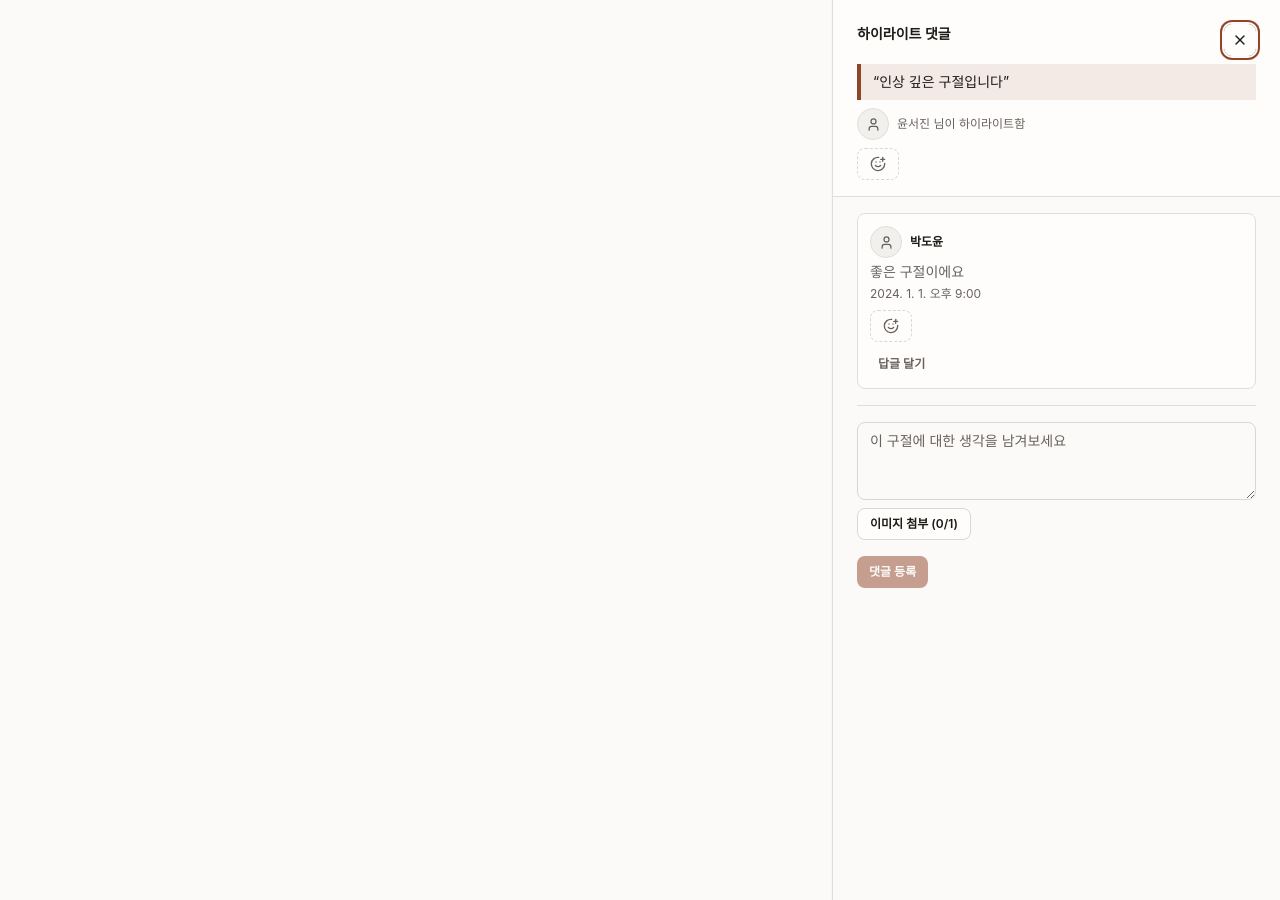
Test case: HighlightCommentPanel › 답글 등록 후 목록에 추가된다
This screenshot has width=1280, height=900.
Click the button "답글 달기": (902, 364) [870,352,933,376]
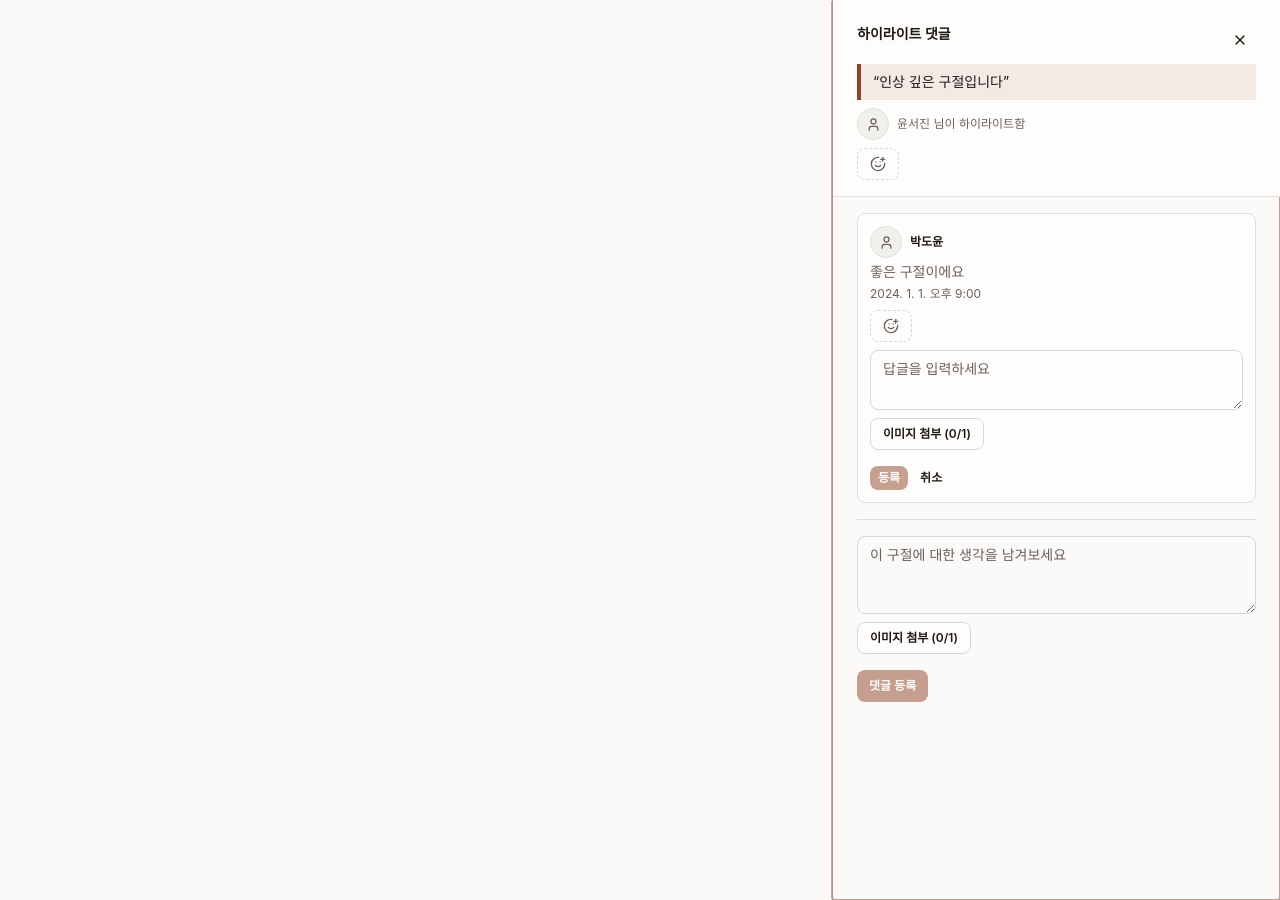
In the text box with placeholder "답글을 입력하세요": (1056, 380) [870,350,1243,410], type "답글 내용입니다"
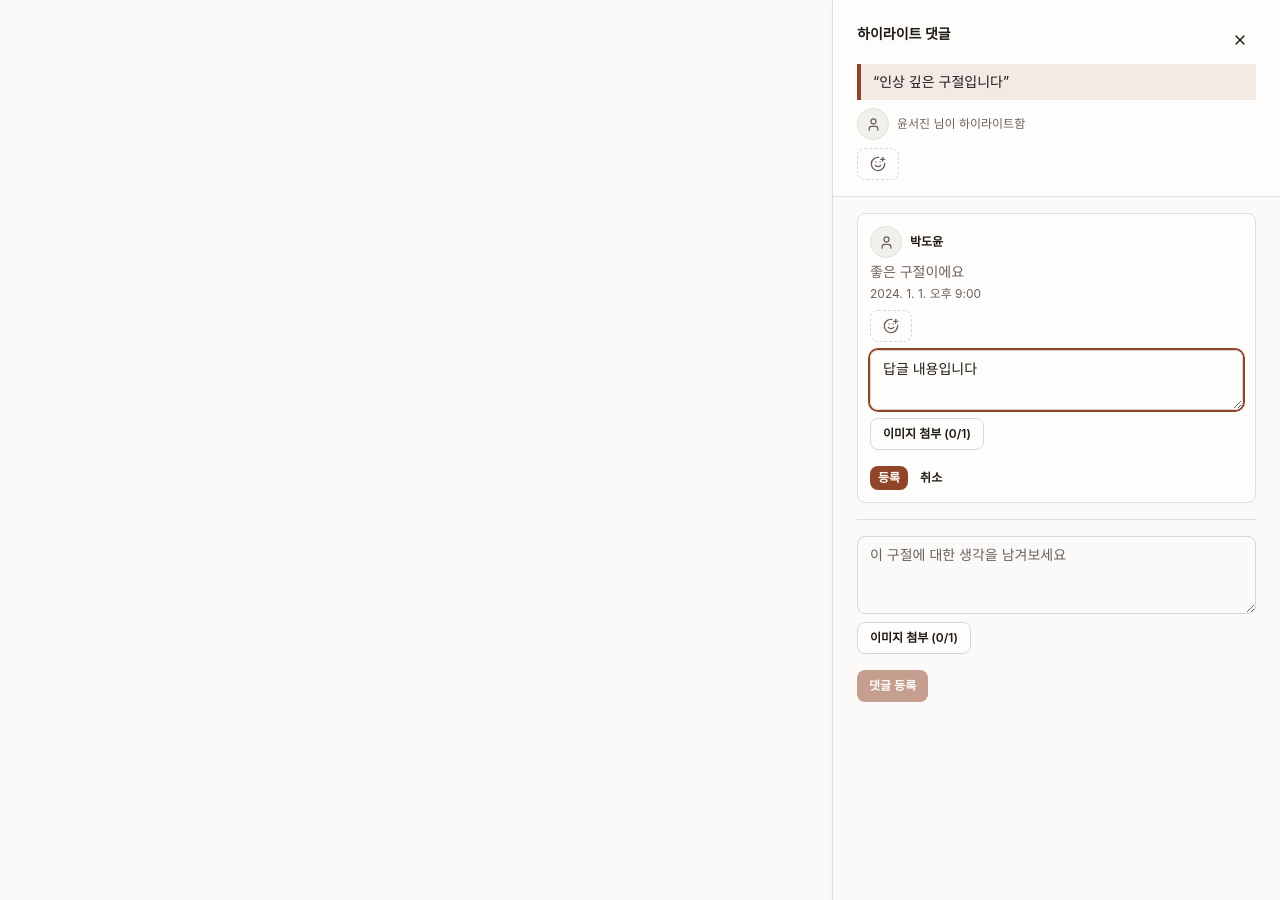
Click the button "등록": (889, 478) [870,466,908,490]
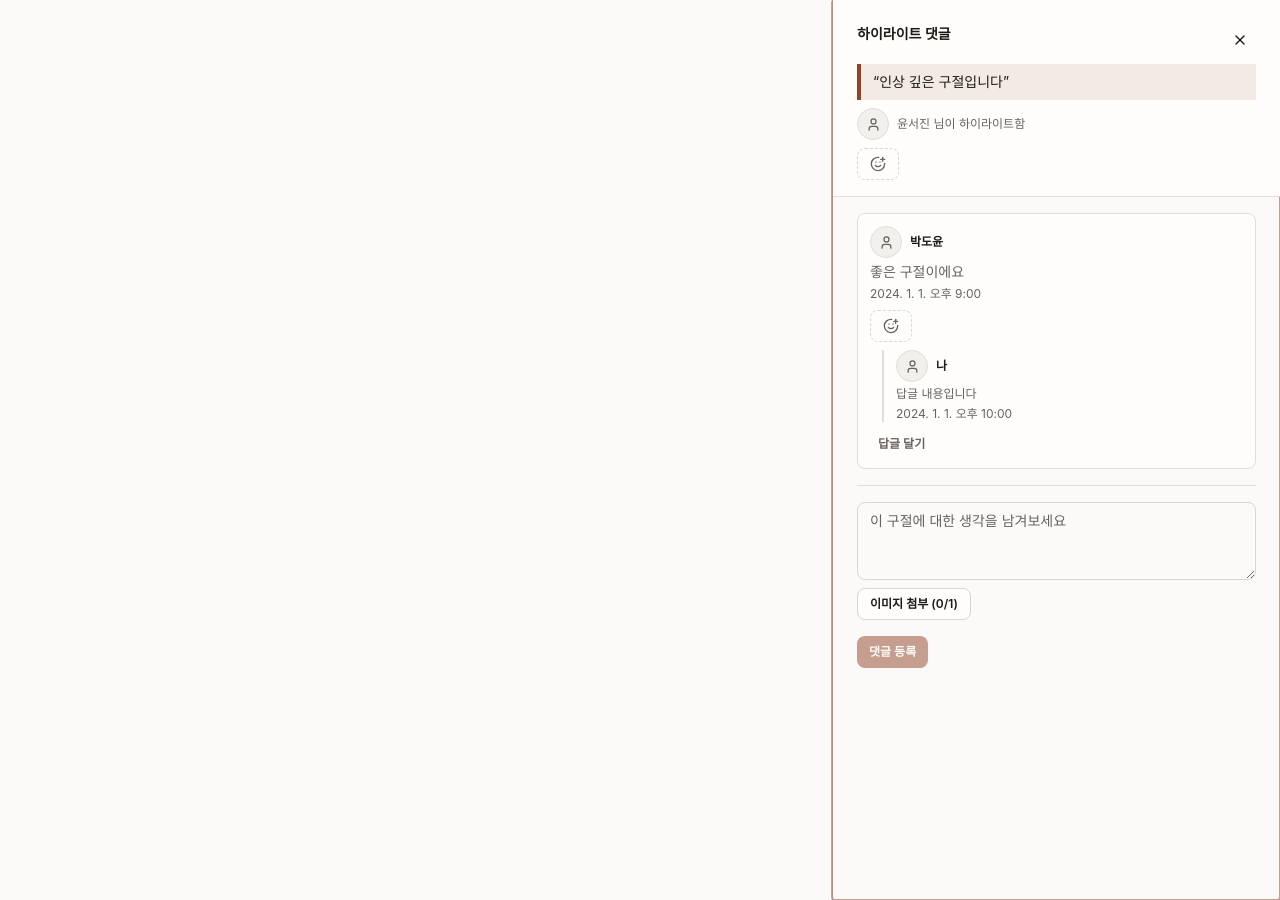
Now the text "답글 내용입니다" is shown, box [896,386,977,401]
